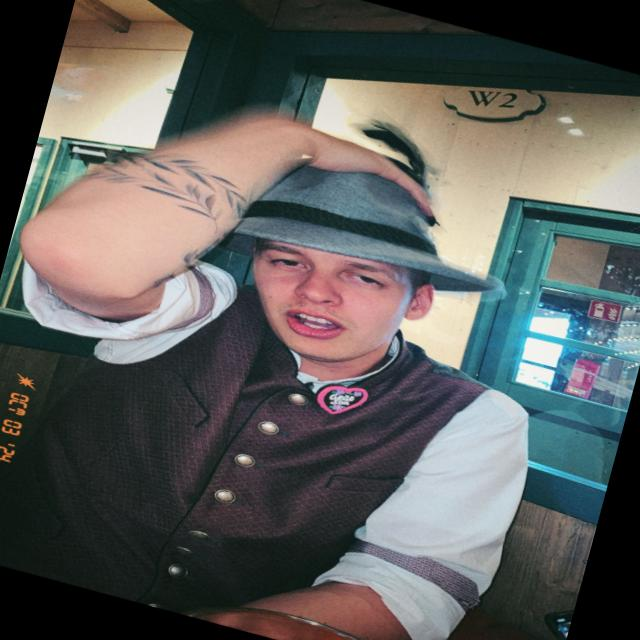JeremiasDiaz: (226, 214, 457, 388)
